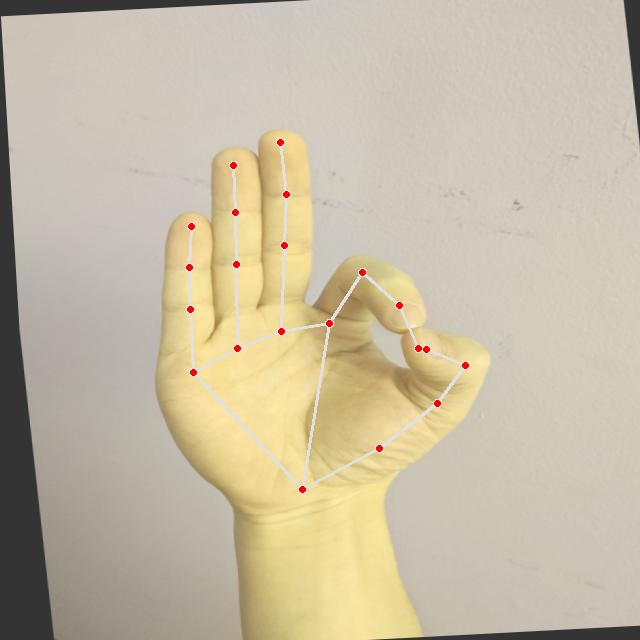F: (119, 112, 511, 531)
